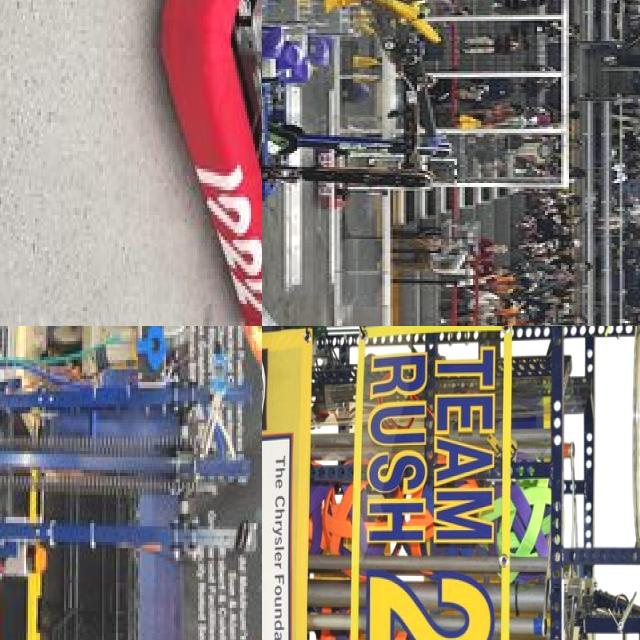FRC-Robots: (262, 326, 640, 640), (0, 326, 258, 640), (262, 0, 456, 237), (146, 0, 262, 326)
